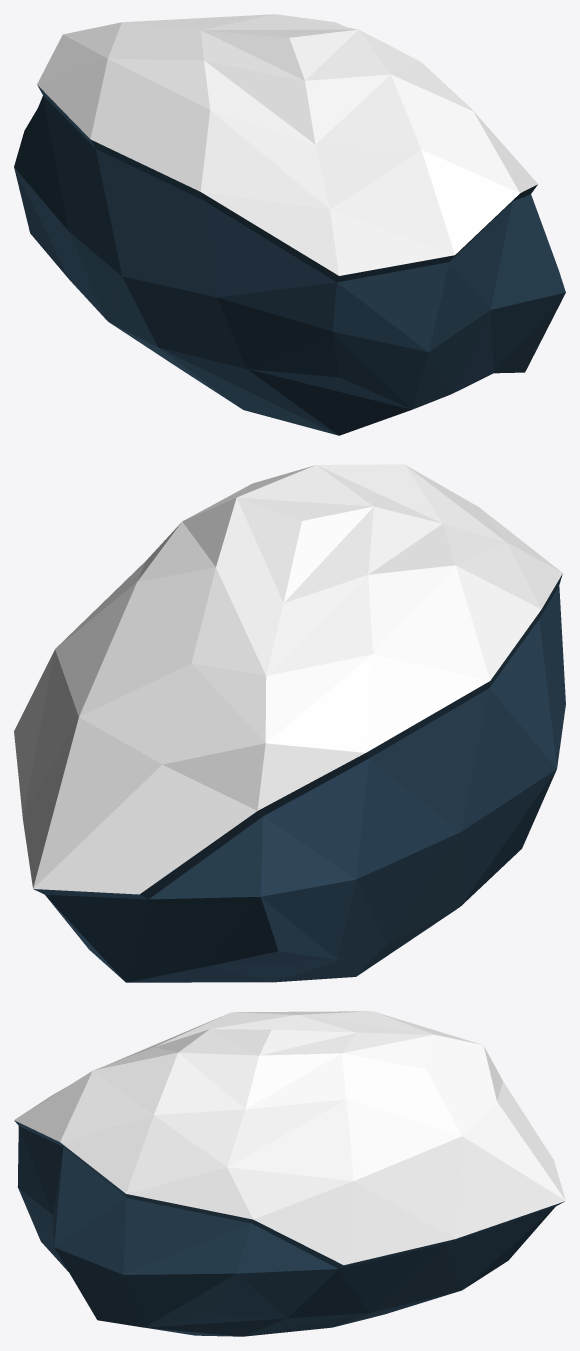
Rendered from Stein2.FBX.
3 renders of one model, top to bottom at view 1: azimuth 30°, elevation 25°; view 2: azimuth 150°, elevation 25°; view 3: azimuth 270°, elevation 25°, orthographic. The views are drawn at different scales.
Visible parts, largest first — view 1: GeoSphere012; view 2: GeoSphere012; view 3: GeoSphere012.
Part boxes in pixels (bbox=[...]): GeoSphere012: bbox=[14, 14, 565, 435]; GeoSphere012: bbox=[14, 464, 565, 982]; GeoSphere012: bbox=[14, 1011, 565, 1336].
Bounding box in the file's own units: 23.99 × 19.69 × 35.65.
